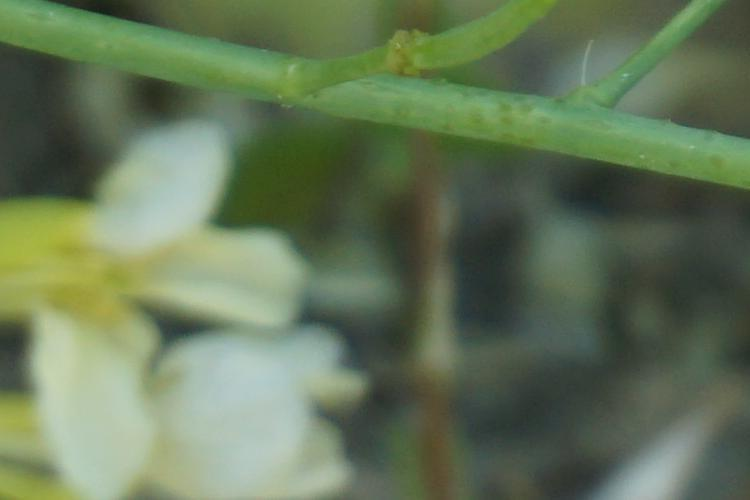white: (24, 305, 381, 498), (2, 128, 315, 332)
